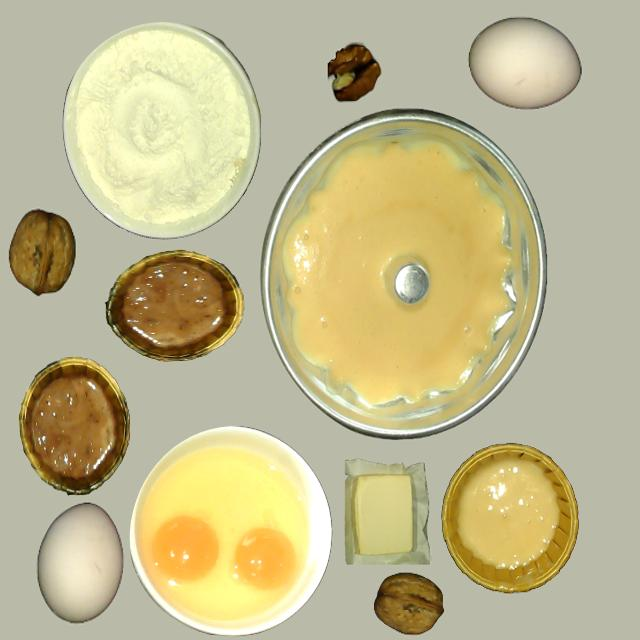Egg: (151, 515, 220, 583), (233, 527, 295, 589)
Sugar: (62, 21, 256, 237)
Walnut: (8, 210, 75, 296), (374, 573, 444, 635)
